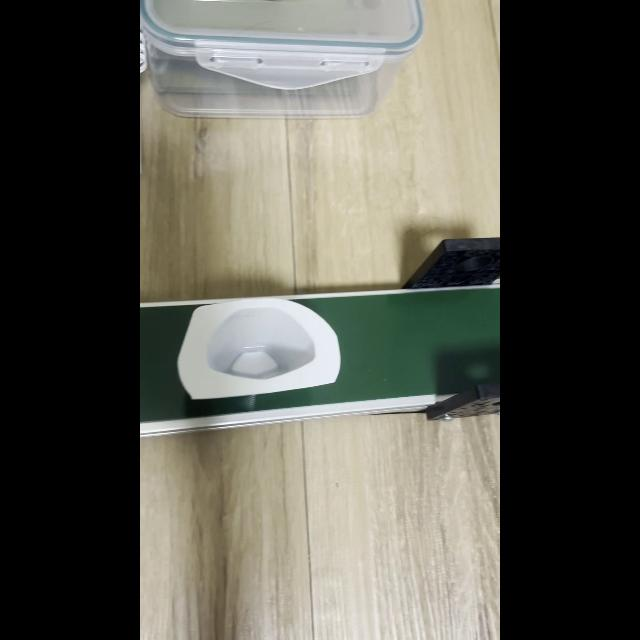clean: (184, 313, 336, 392)
